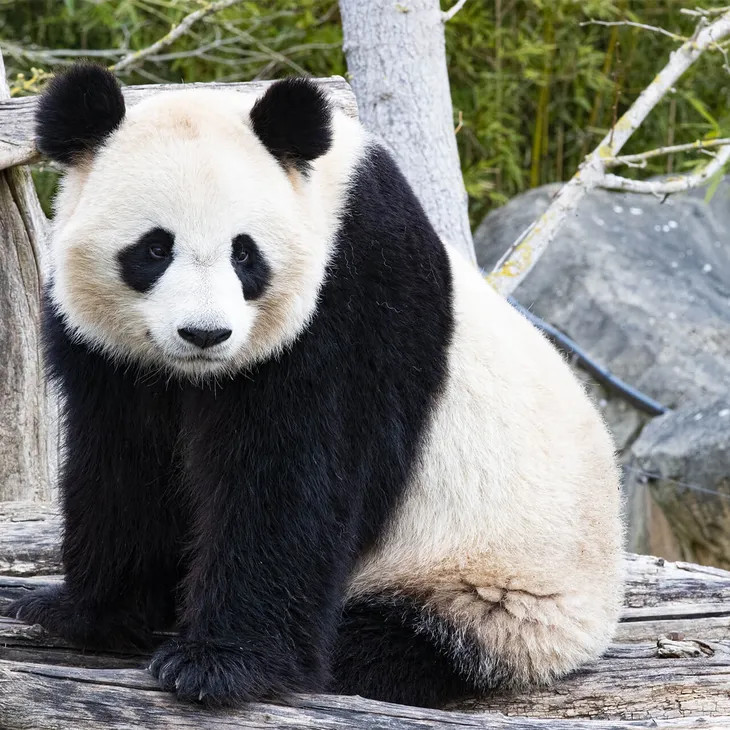Giant panda: (34, 65, 364, 377)
